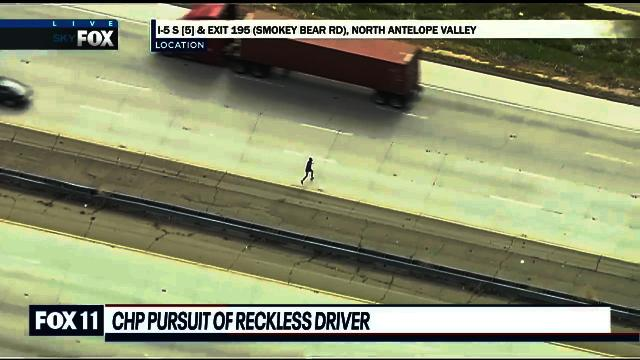berlari: (298, 154, 316, 187)
